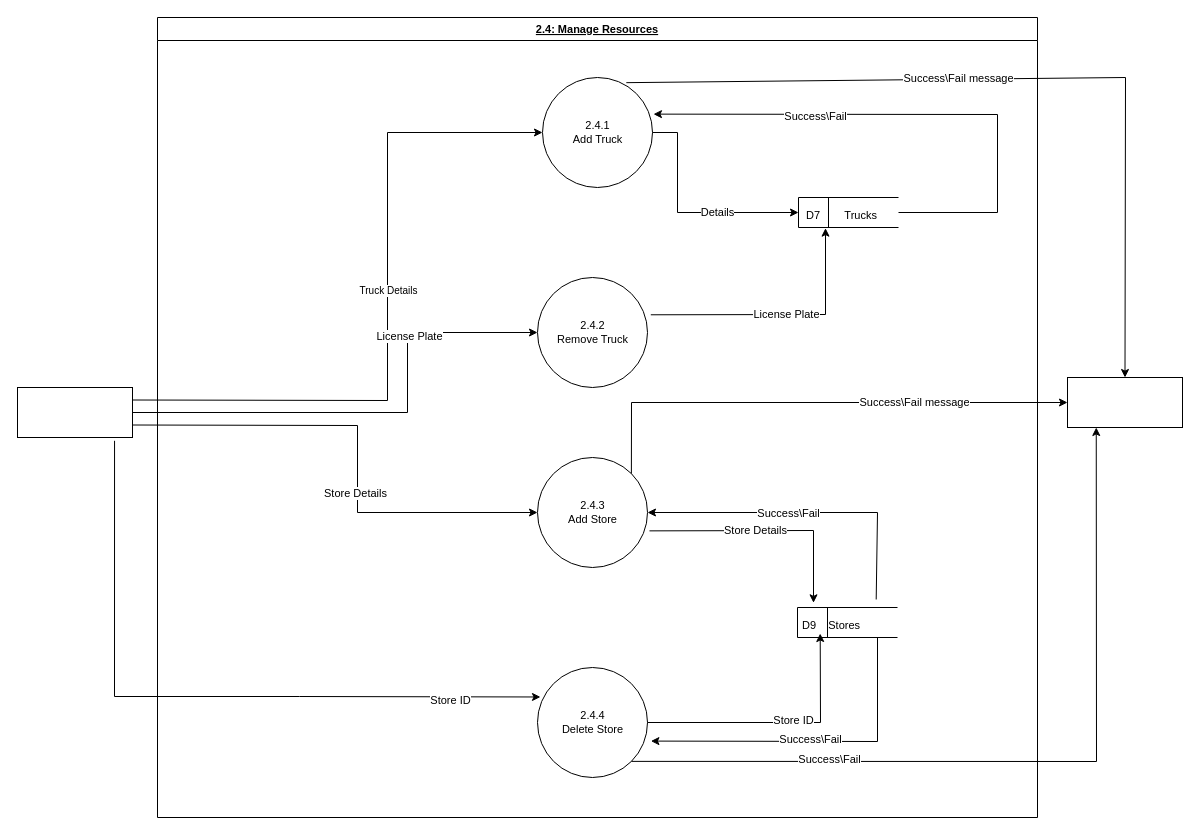
Some shapes in this 1200 by 835 pixel diagram are drawn without their labels. The centre of each missing label's shape, as x and y in pixels:
E4 Logistics Manager: point (74, 412)
E4 Logistics Manger: point (1124, 402)
